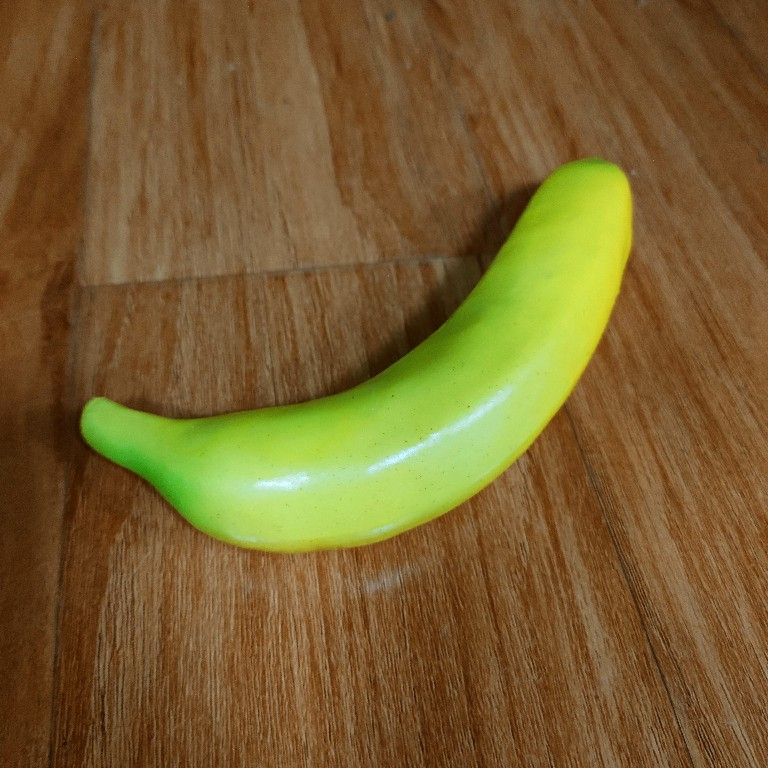fruit_banana: (72, 151, 639, 557)
